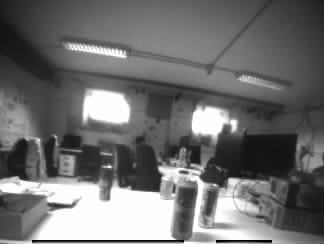Bottle: (178, 146, 187, 167)
Tin can: (174, 178, 194, 239), (200, 184, 217, 230), (98, 164, 111, 200), (161, 176, 174, 199)
